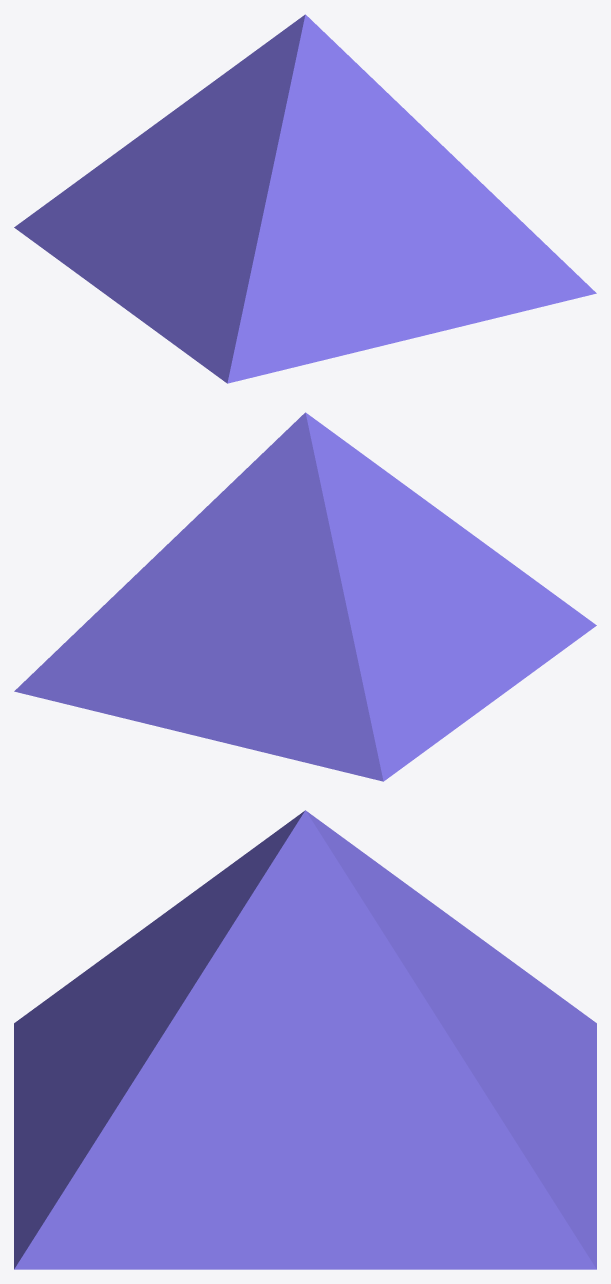
The model's file is asset.glb.
The picture shows the model from 3 angles, top to bottom: view 1: azimuth 30°, elevation 25°; view 2: azimuth 150°, elevation 25°; view 3: azimuth 270°, elevation 25°; orthographic projection. The views are drawn at different scales.
Parts seen in each view (by area): view 1: 3DGeom-1; view 2: 3DGeom-1; view 3: 3DGeom-1.
Part boxes in pixels (left/top/right/bottom): 3DGeom-1: left=14, top=14, right=596, bottom=383; 3DGeom-1: left=14, top=412, right=596, bottom=781; 3DGeom-1: left=14, top=810, right=596, bottom=1269.
Size of the model in its own units: 1.52 by 0.9702 by 1.52.
